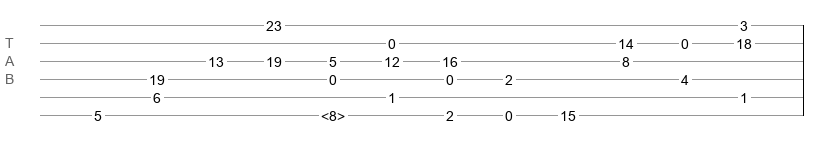0: (329, 72, 337, 82), (388, 36, 396, 46), (446, 72, 454, 82), (505, 108, 513, 118), (681, 36, 689, 46)
1: (388, 90, 396, 100), (740, 90, 748, 100)
12: (384, 54, 400, 64)
13: (208, 54, 224, 64)
14: (618, 36, 634, 46)
15: (560, 108, 576, 118)
16: (442, 54, 458, 64)
18: (736, 36, 752, 46)
19: (149, 72, 165, 82), (266, 54, 282, 64)
2: (446, 108, 454, 118), (505, 72, 513, 82)
23: (266, 18, 282, 28)
3: (740, 18, 748, 28)
4: (681, 72, 689, 82)
5: (94, 108, 102, 118), (329, 54, 337, 64)
6: (153, 90, 161, 100)
8: (622, 54, 630, 64)
harmonic: (321, 108, 345, 118)
